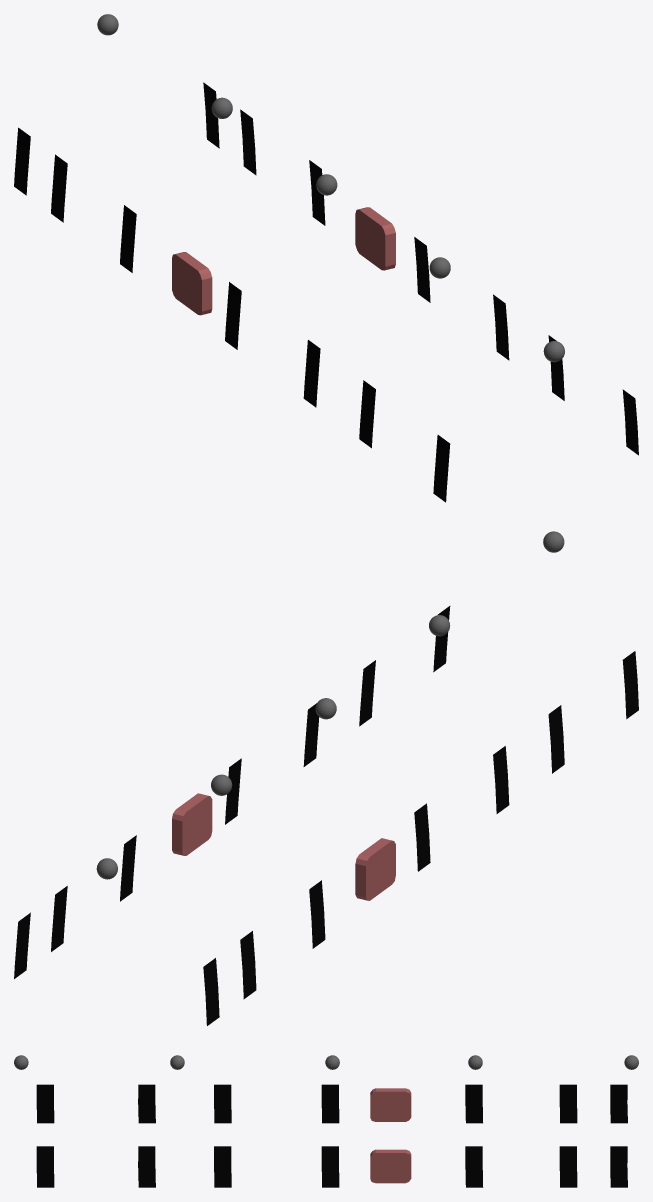
Rendered from mr-54ft-eliptical-full-brake-gubbins.dae.
The picture shows the model from 3 angles, top to bottom: view 1: azimuth 30°, elevation 25°; view 2: azimuth 150°, elevation 25°; view 3: azimuth 270°, elevation 25°; orthographic projection. The views are drawn at different scales.
Parts seen in each view (by area): view 1: Cube_007_011, Cube_007_000, Plane_5005, Plane_5013, Plane_5018, Plane_5046, Plane_5051, Plane_5030, Plane_5020, Plane_5093, Plane_5095, Plane_5107 (+1 smaller); view 2: Cube_007_011, Cube_007_000, Plane_5013, Plane_5018, Plane_5020, Plane_5030, Plane_5046, Plane_5005, Plane_5051, Plane_5093, Plane_5099, Plane_5067 (+2 smaller); view 3: Cube_007_000, Cube_007_011, Plane_5067, Plane_5099, Plane_5107, Plane_5062, Plane_5093, Plane_5095, Plane_5083, Plane_5005, Plane_5013, Plane_5046 (+4 smaller).
Part boxes in pixels (<box>): Cube_007_011: <box>172,252,212,315</box>; Cube_007_000: <box>355,207,395,270</box>; Plane_5005: <box>303,340,320,407</box>; Plane_5013: <box>14,127,30,195</box>; Plane_5018: <box>225,282,241,349</box>; Plane_5046: <box>359,380,375,448</box>; Plane_5051: <box>433,435,450,502</box>; Plane_5030: <box>120,205,136,272</box>; Plane_5020: <box>51,154,67,222</box>; Plane_5093: <box>240,109,256,175</box>; Plane_5095: <box>414,237,430,302</box>; Plane_5107: <box>493,294,509,360</box>; Cube_007_011: <box>355,838,395,900</box>; Cube_007_000: <box>172,793,212,855</box>; Plane_5013: <box>203,958,219,1025</box>; Plane_5018: <box>414,803,430,871</box>; Plane_5020: <box>240,931,256,999</box>; Plane_5030: <box>309,880,325,948</box>; Plane_5046: <box>548,705,564,773</box>; Plane_5005: <box>493,746,509,813</box>; Plane_5051: <box>622,651,638,719</box>; Plane_5093: <box>51,886,67,951</box>; Plane_5099: <box>14,912,30,978</box>; Plane_5067: <box>359,660,375,726</box>; Cube_007_000: <box>370,1149,411,1183</box>; Cube_007_011: <box>370,1088,411,1121</box>; Plane_5067: <box>138,1146,155,1187</box>; Plane_5099: <box>610,1146,627,1187</box>; Plane_5107: <box>214,1146,231,1187</box>; Plane_5062: <box>36,1146,54,1187</box>; Plane_5093: <box>559,1146,577,1187</box>; Plane_5095: <box>321,1146,339,1187</box>; Plane_5083: <box>465,1146,483,1187</box>; Plane_5005: <box>214,1084,231,1123</box>; Plane_5013: <box>610,1084,627,1123</box>; Plane_5046: <box>138,1084,155,1123</box>.
Size of the model in its own units: 2.1 by 8.57 by 1.51.
